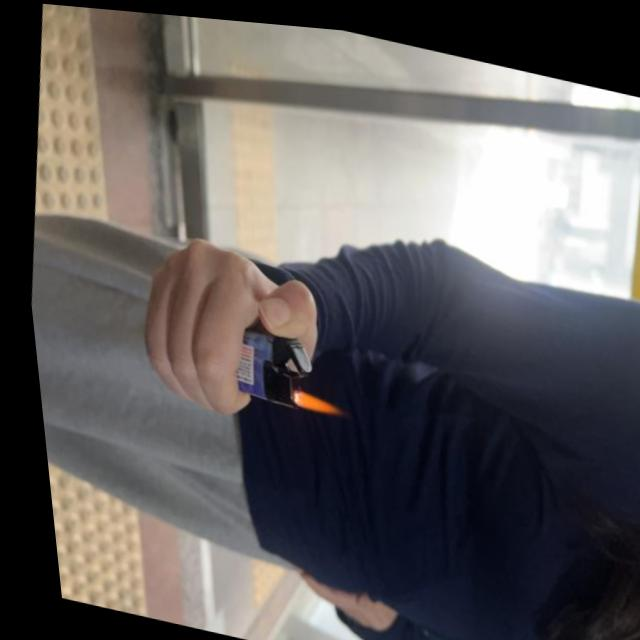Fire: (286, 381, 331, 413)
